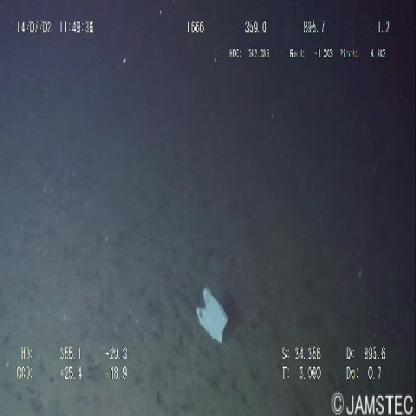Rác: (190, 284, 232, 354)
